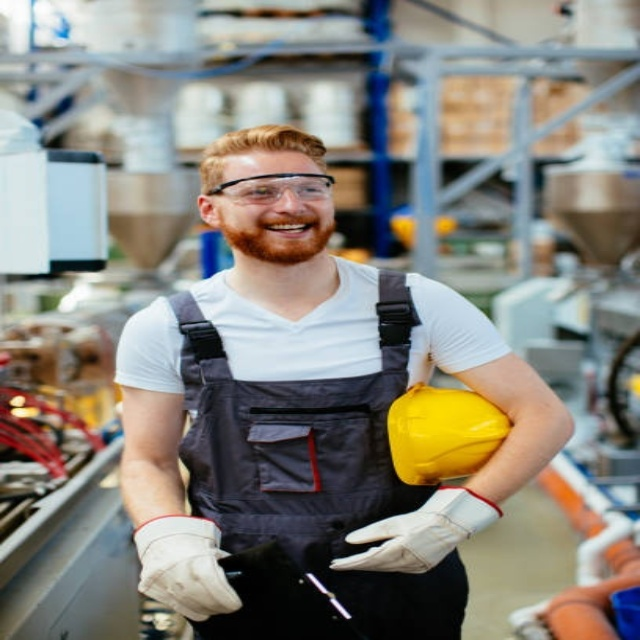Gafas: (206, 172, 336, 198)
Guantes: (330, 486, 502, 575), (129, 513, 243, 623)
Sin_mascara: (248, 216, 328, 250)
